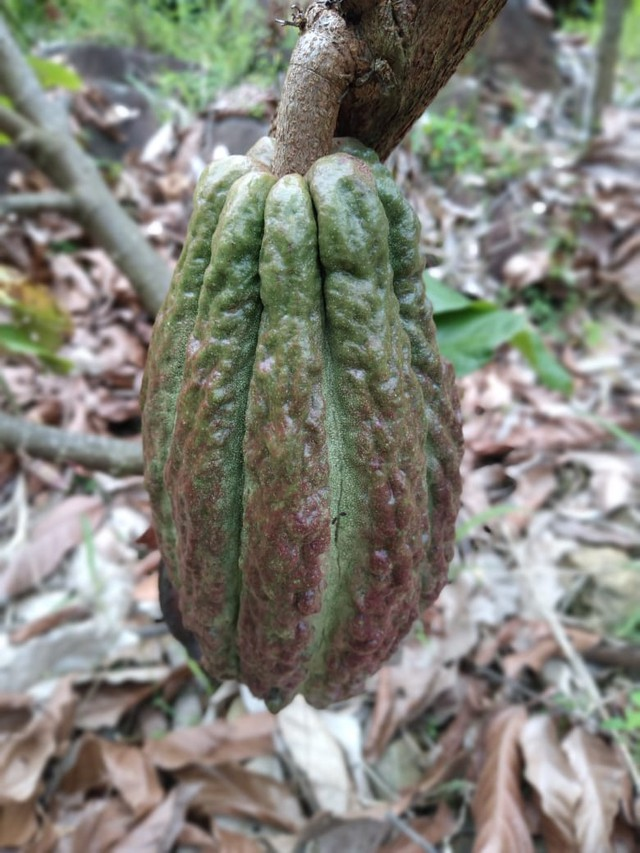Health: (127, 116, 472, 730)
